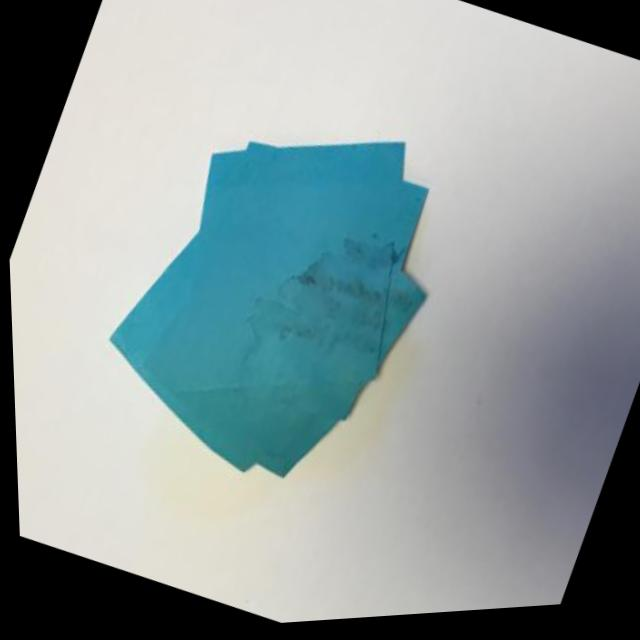paper: (27, 40, 528, 628)
